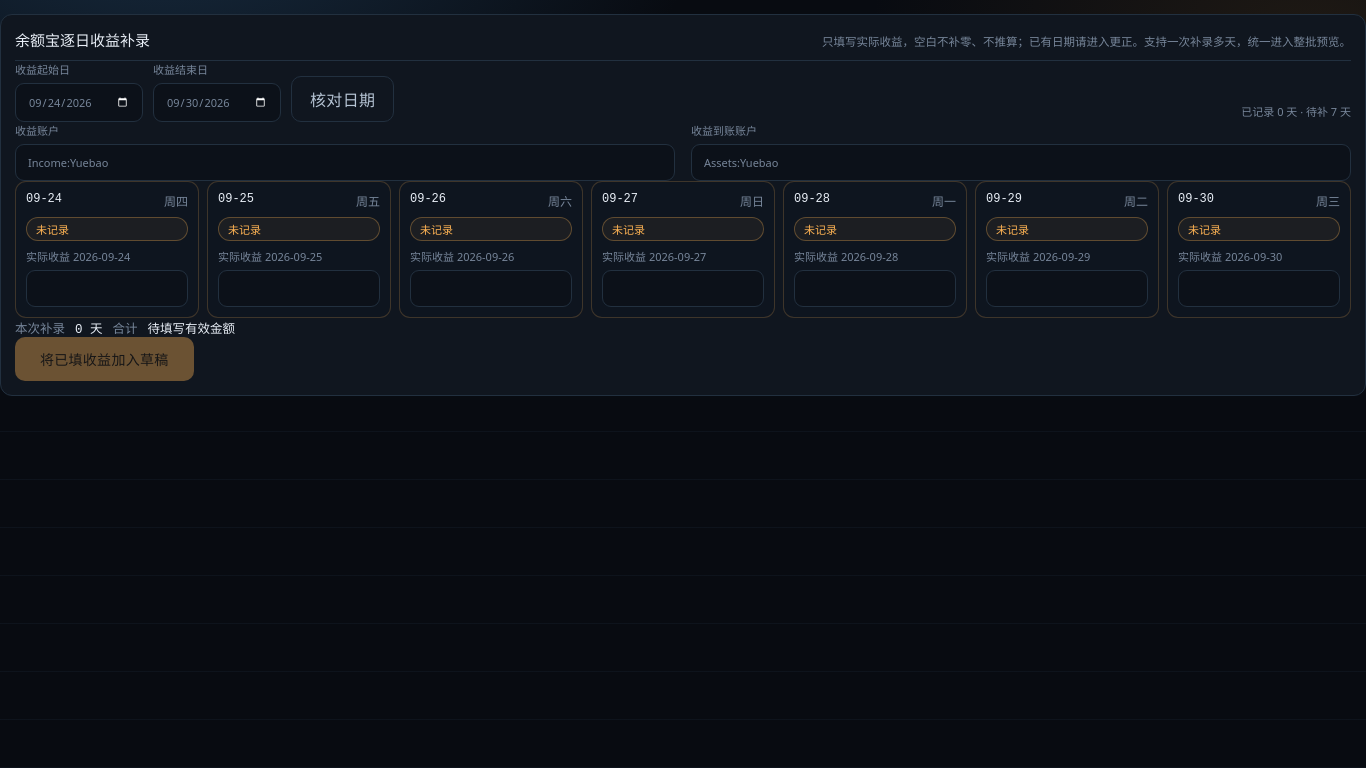
Test: 手改日期重新核对使用新参数，失败提示错误、重试成功后消失
Check: the text "09-24" is shown, box [26,192,62,210]
Type "2026-09-01" into the date field labelled "收益起始日" at (79,102), box [15,83,143,122]
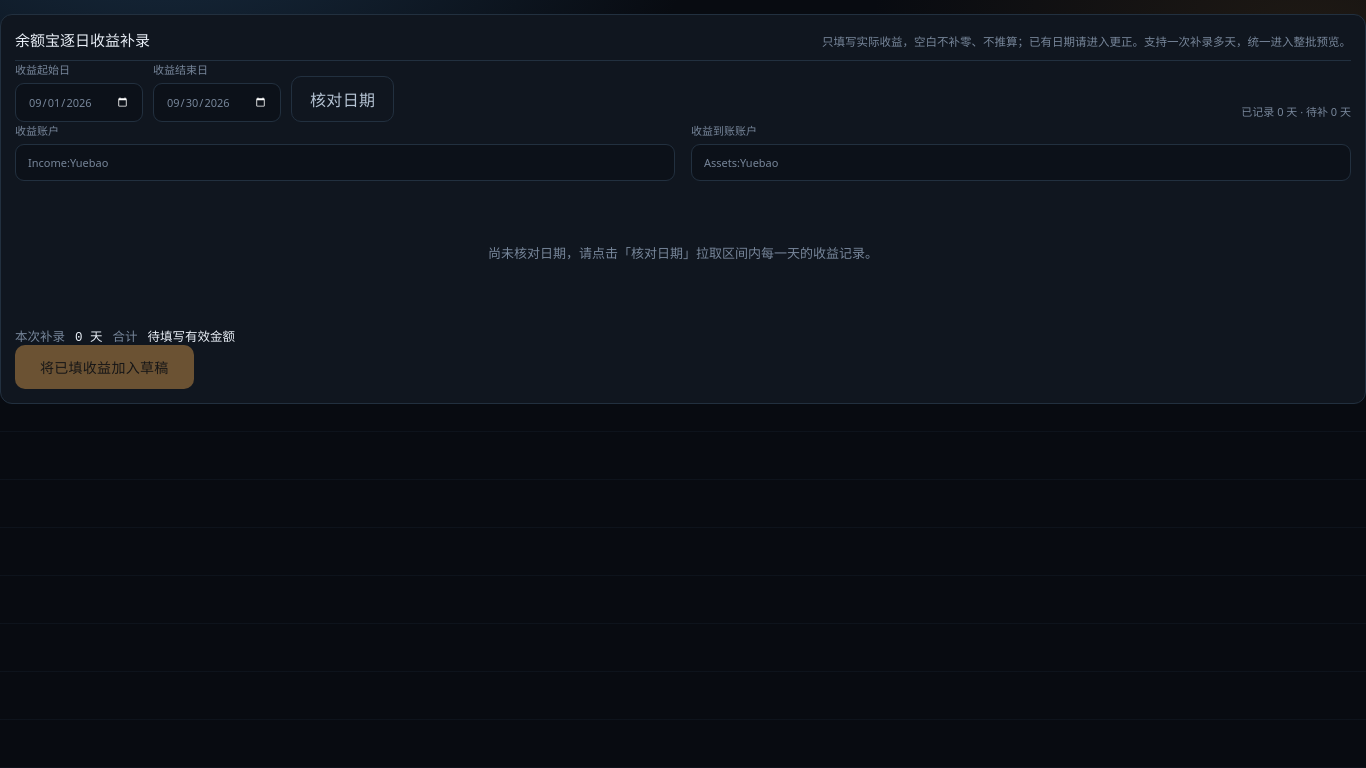
Type "2026-09-05" into the date field labelled "收益结束日" at (217,102), box [153,83,281,122]
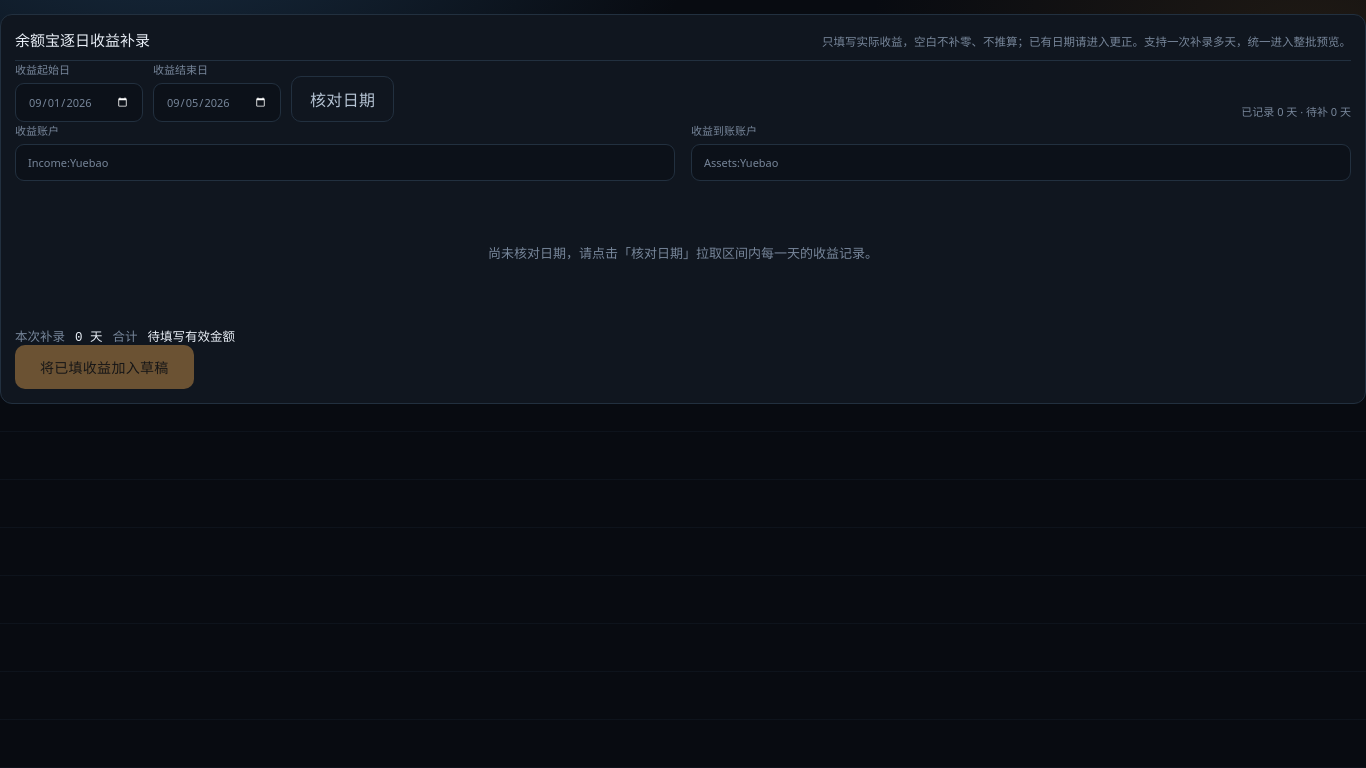
Click the button "核对日期" at (343,99), box [291,76,394,122]
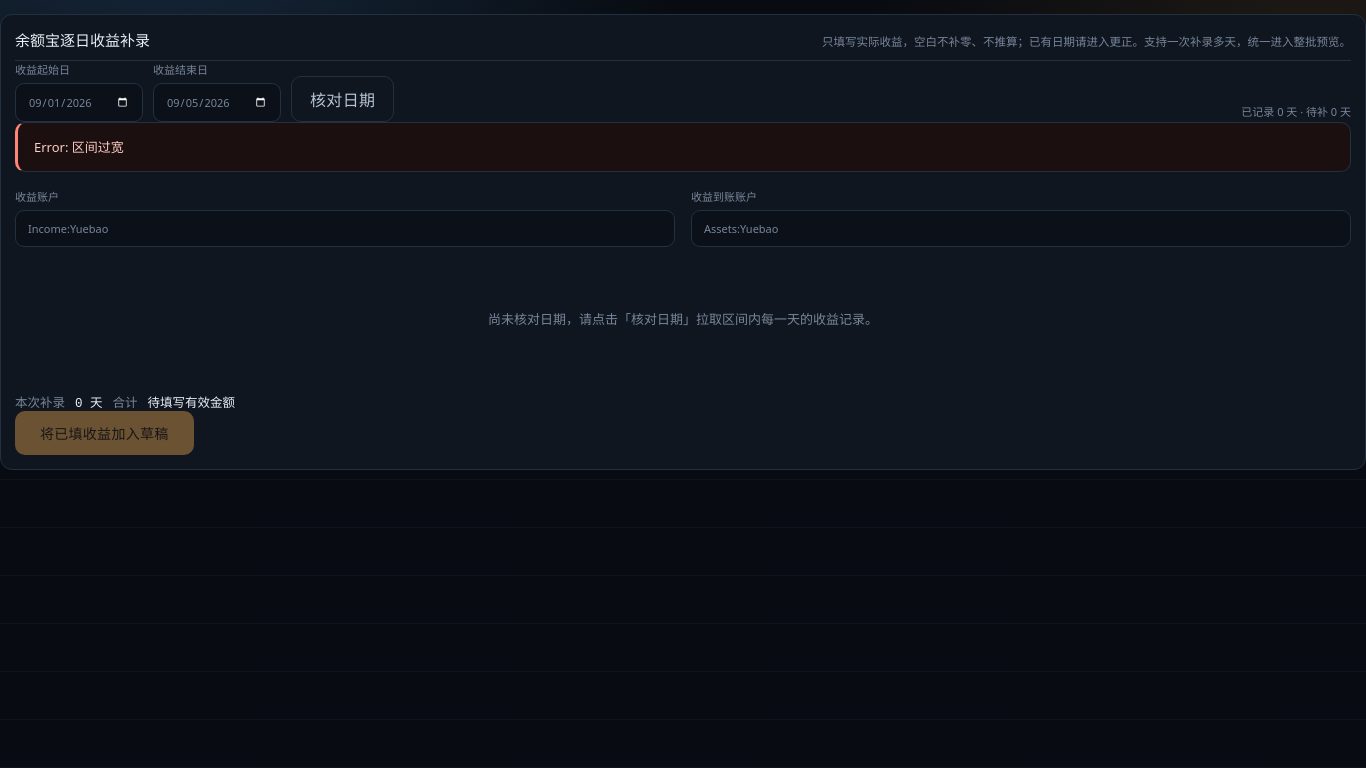
Check: the message shows "区间过宽", box [34,138,124,156]
Click the button "核对日期" at (343,99), box [291,76,394,122]
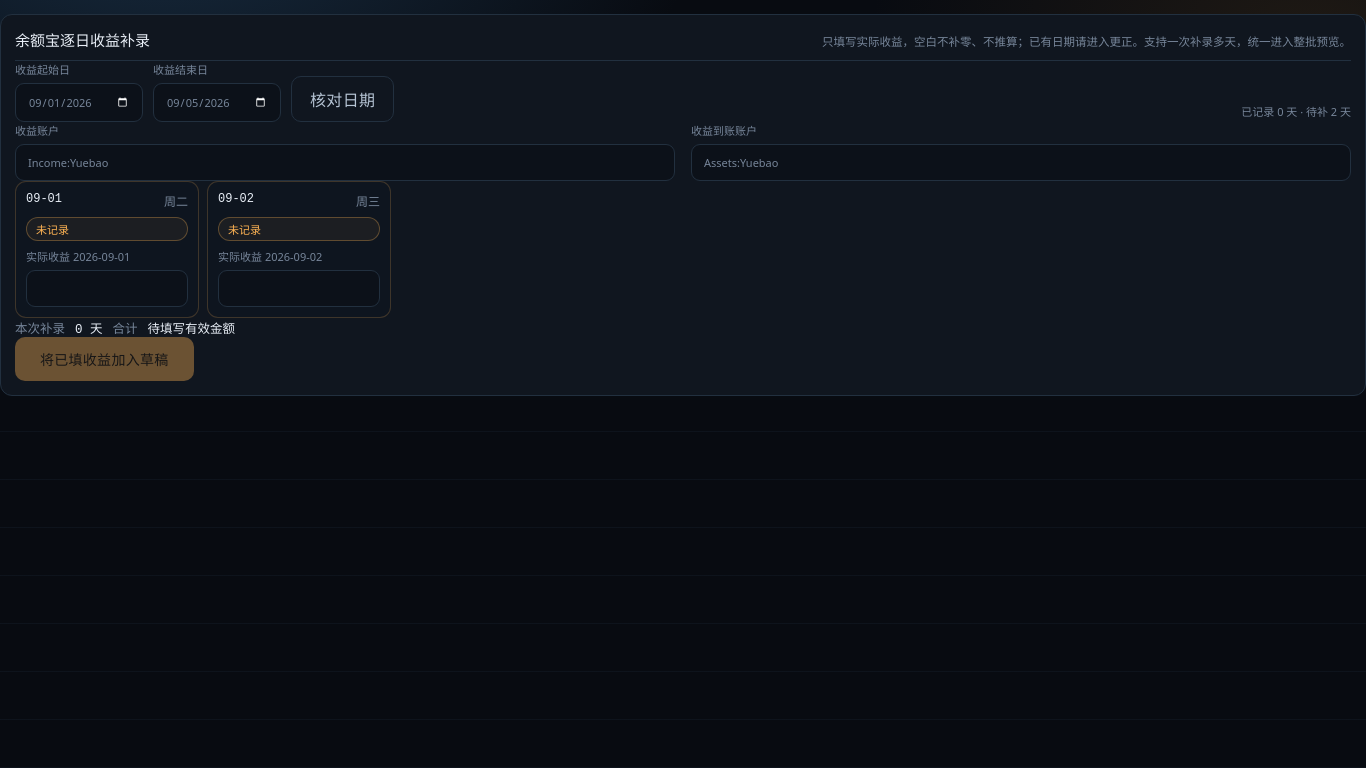
Check: the message "Error: 区间过宽" is gone
Check: the text "09-01" is shown, box [26,192,62,210]
